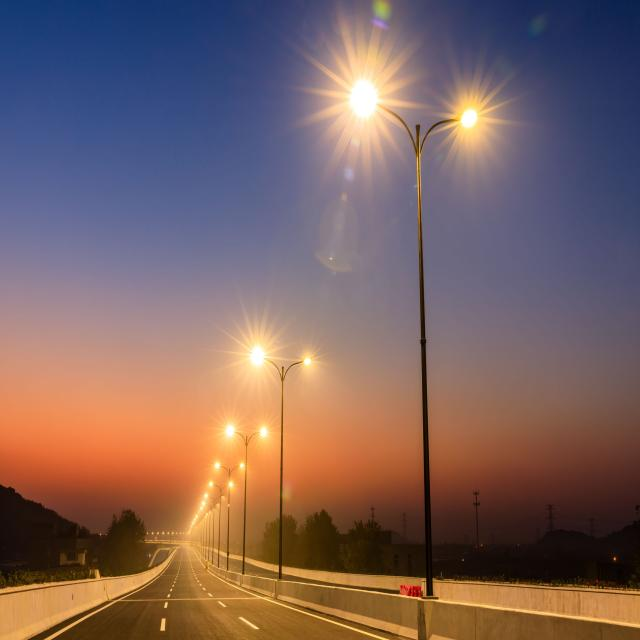Street Light: (350, 79, 480, 622), (250, 347, 313, 581), (226, 422, 266, 576), (213, 459, 244, 572), (209, 479, 235, 568), (204, 492, 226, 568)
